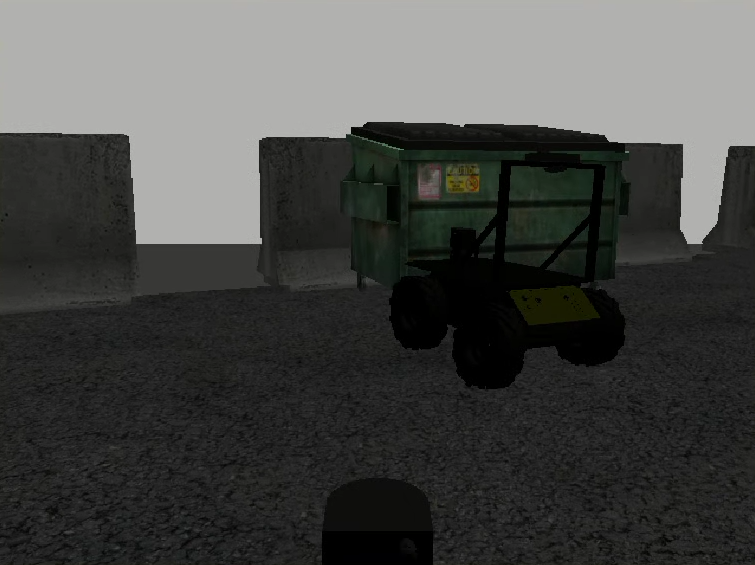husky: (388, 258, 625, 389)
